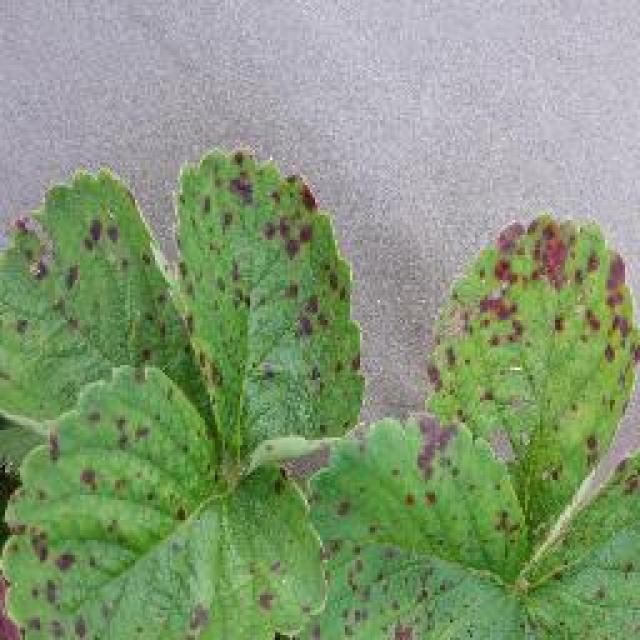Strawberry___Leaf_scorch: (0, 140, 398, 640)
